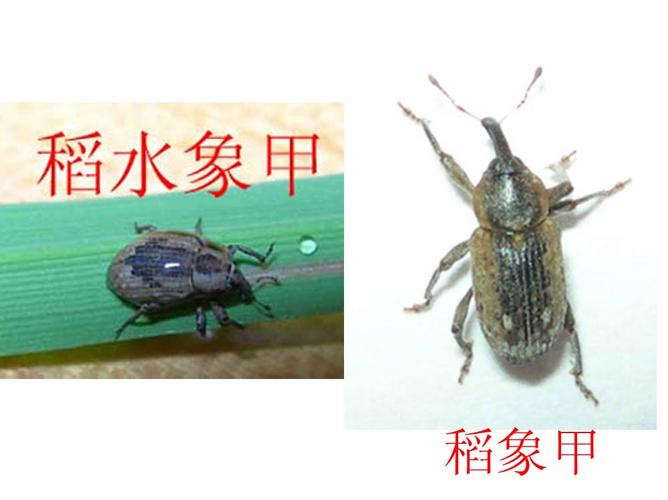Curculionidae: (396, 67, 631, 408), (105, 216, 279, 345)
